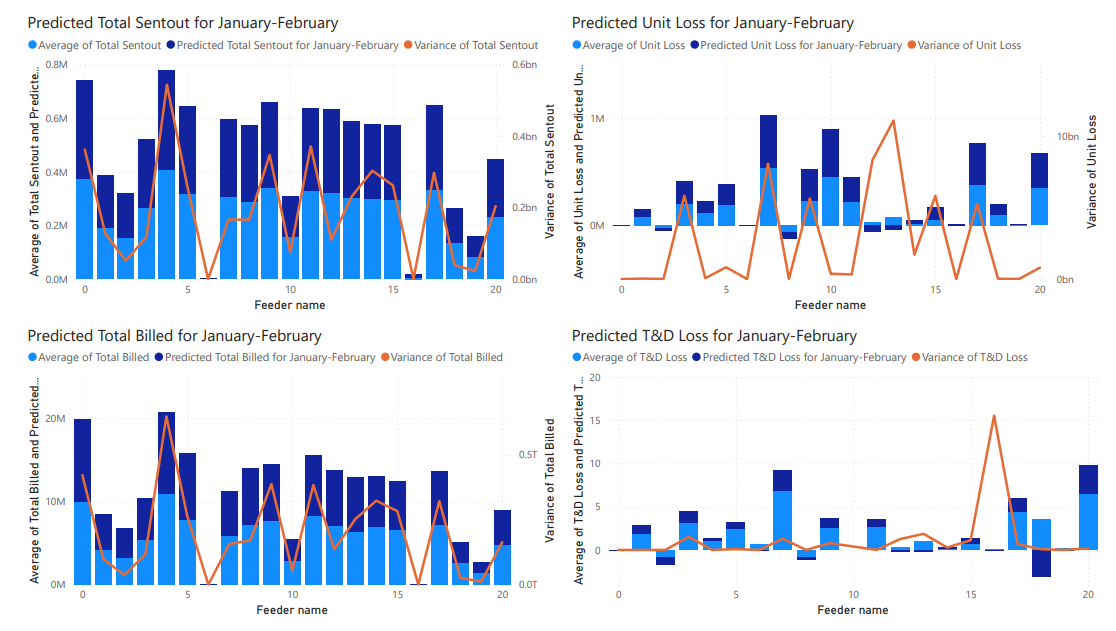

Layout of this report page (visuals, bound fields, positions):
{"tool":"powerbi","page":{"name":"Predictions","canvas":[1280,720],"ordinal":3},"visuals":[{"type":"lineStackedColumnComboChart","title":"Predicted Total Sentout for January-February","fields":{"Category":["gorwa_totalsentout_prediction.Feeder name"],"Y":["Avg(gorwa_totalsentout.Total Sentout)","Sum(gorwa_totalsentout_prediction.Total Sentout)"],"Y2":["Median(gorwa_totalsentout.Total Sentout)"]},"box":[8.3,0,632.3,359.2],"z":0},{"type":"lineStackedColumnComboChart","title":"Predicted Total Billed for January-February","fields":{"Category":["gorwa_totalbilled_prediction.Feeder name"],"Y":["Avg(gorwa_totalbilled.Total Billed)","Sum(gorwa_totalbilled_prediction.Total Billed)"],"Y2":["Sum(gorwa_totalbilled.Total Billed)1"]},"box":[8.3,369.2,632.3,350.8],"z":1000},{"type":"lineStackedColumnComboChart","title":"Predicted Unit Loss for January-February","fields":{"Category":["gorwa_unitloss_prediction.Feeder name"],"Y":["Avg(gorwa_unitloss.Unit Loss)","Sum(gorwa_unitloss_prediction.Unit Loss)"],"Y2":["Sum(gorwa_unitloss.Unit Loss)1"]},"box":[650,0,630,359],"z":2000},{"type":"lineStackedColumnComboChart","title":"Predicted T&D Loss for January-February","fields":{"Category":["gorwa_tanddloss_prediction.Feeder name"],"Y":["Avg(gorwa_tanddloss.T&D Loss)","Sum(gorwa_tanddloss_prediction.T&D Loss)"],"Y2":["Sum(gorwa_tanddloss.T&D Loss)1"]},"box":[650,369,630,351],"z":3000}]}

Visuals, with their boxes in screenshot pixels (x1, y1, x2, y2), scaled from the page's 1280x720 canvas onto the 1116x631 screenshot:
"Predicted Total Sentout for January-February" lineStackedColumnComboChart: [left=7, top=0, right=559, bottom=315]
"Predicted Total Billed for January-February" lineStackedColumnComboChart: [left=7, top=324, right=559, bottom=630]
"Predicted Unit Loss for January-February" lineStackedColumnComboChart: [left=567, top=0, right=1115, bottom=315]
"Predicted T&D Loss for January-February" lineStackedColumnComboChart: [left=567, top=323, right=1115, bottom=630]
